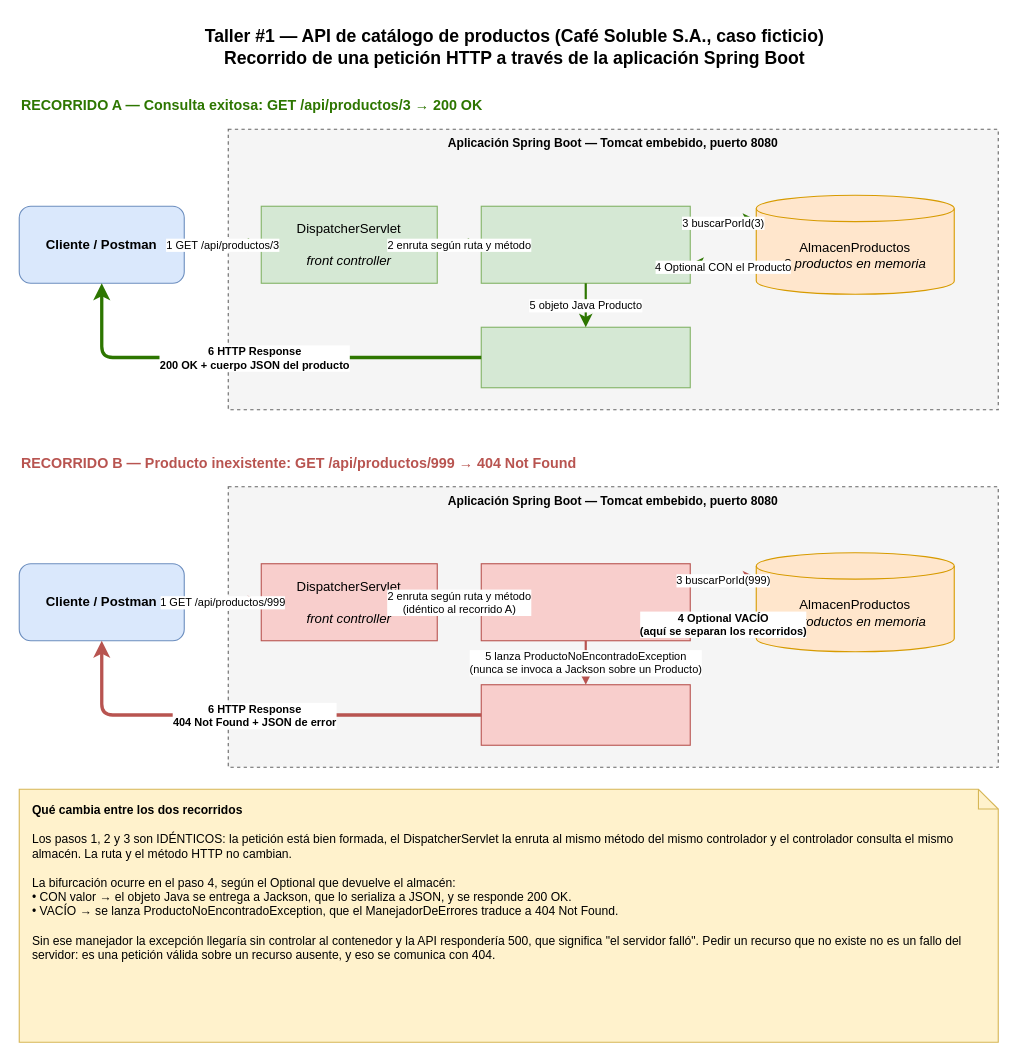
Image size: 1029x1062. Some labels were removed from this diagram. The shapes that lost their labels are listed below. From the top down, each one's box as (x1, y1, x2, y2) in pixels, then its label:
(480, 205, 690, 283): ProductoControlador @GetMapping("/{id}") consultarPorId(3)
(480, 326, 690, 388): Jackson Producto → JSON
(480, 563, 690, 641): ProductoControlador @GetMapping("/{id}") consultarPorId(999)
(480, 684, 690, 745): ManejadorDeErrores @RestControllerAdvice
